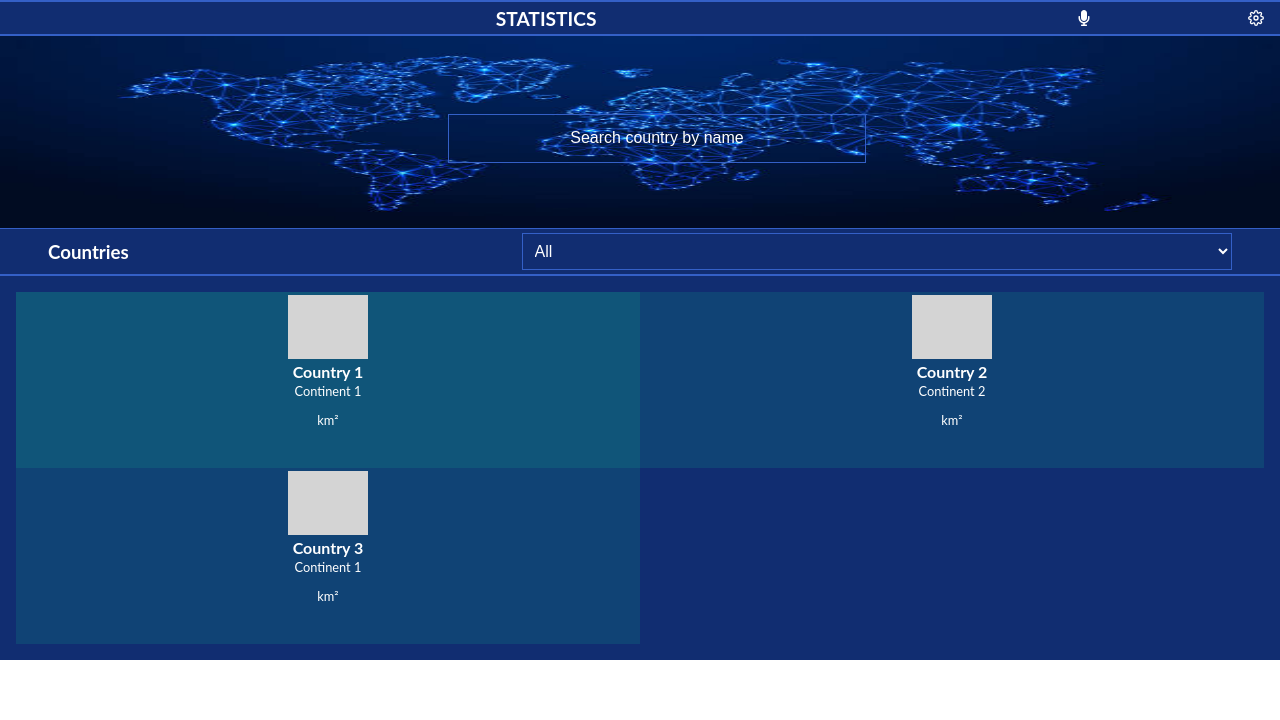
Countries component › display countries of selected continent: filter
Select "Continent 1" in the dropdown at (877, 252), box [522, 233, 1232, 270]
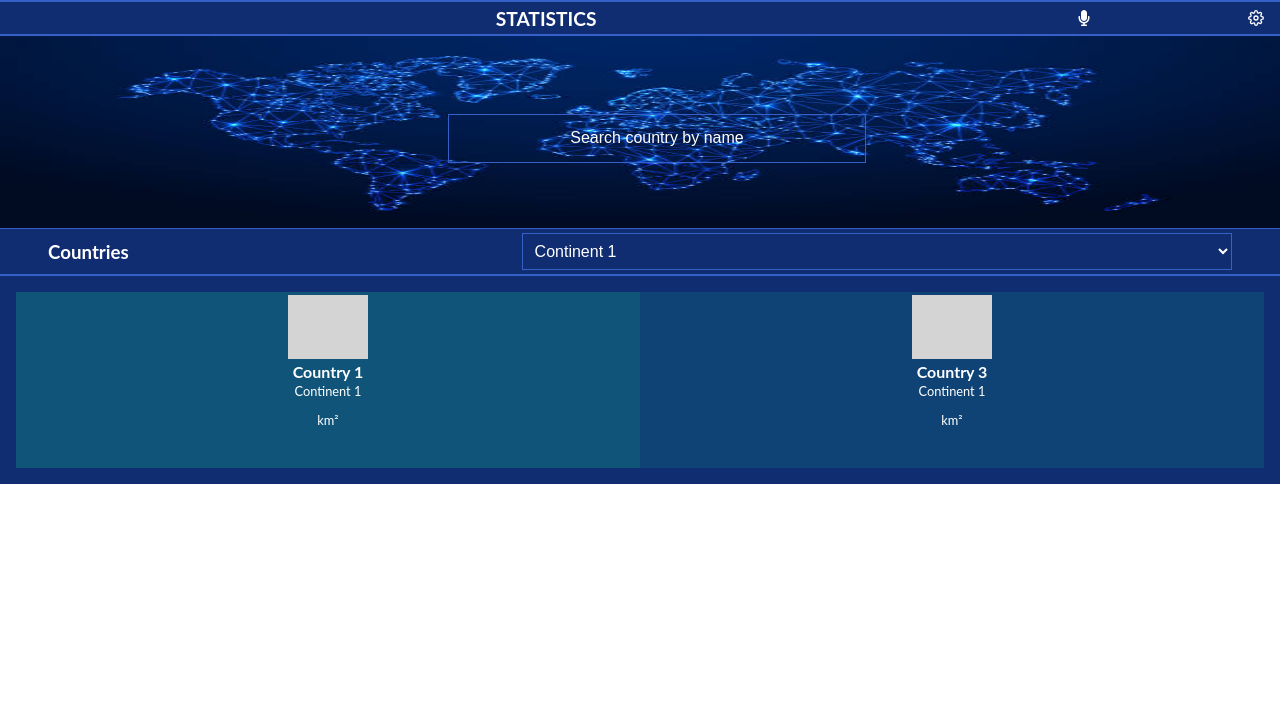
Check: the number of elements with test id "country-item" is 2, box [16, 292, 640, 468]; [640, 292, 1264, 468]
